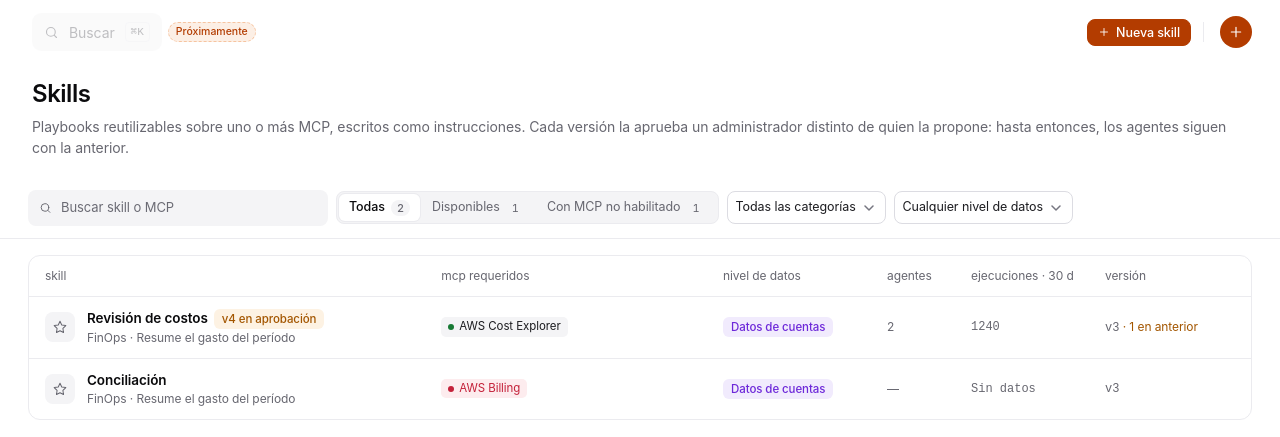
Test: SkillsPage › lists the skills with their servers, level, agents, runs and version
Expected: the button "Revisión de costos" shows "v4 en aprobación", 29,296 -> 1251,358
Expected: the button "Revisión de costos" shows "AWS Cost Explorer", 29,296 -> 1251,358
Click the button "Con MCP no habilitado 1" at x=626, y=208, box 537,194 -> 716,221
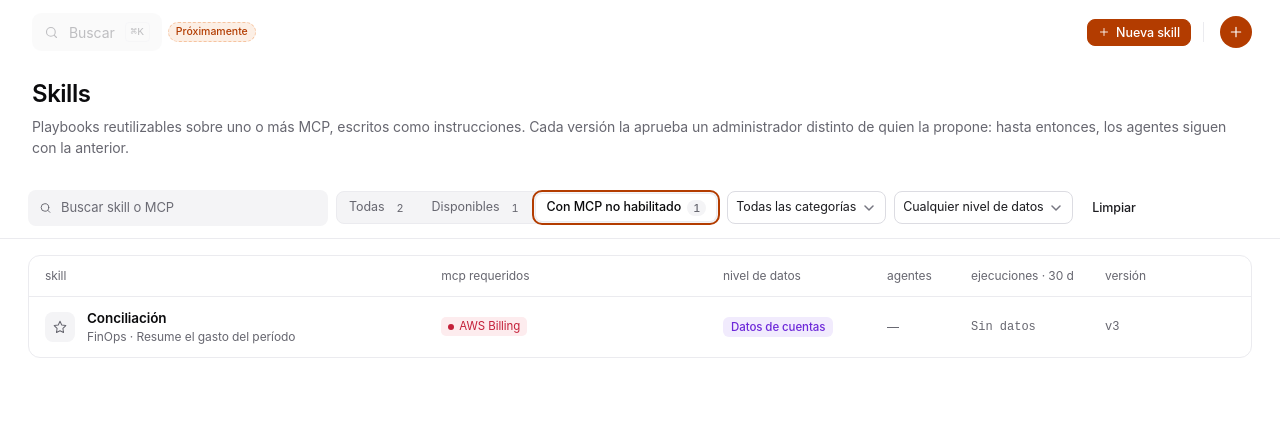
Result: the button "Revisión de costos" is gone
Click the button "Limpiar" at x=1114, y=208, box 1081,194 -> 1147,221
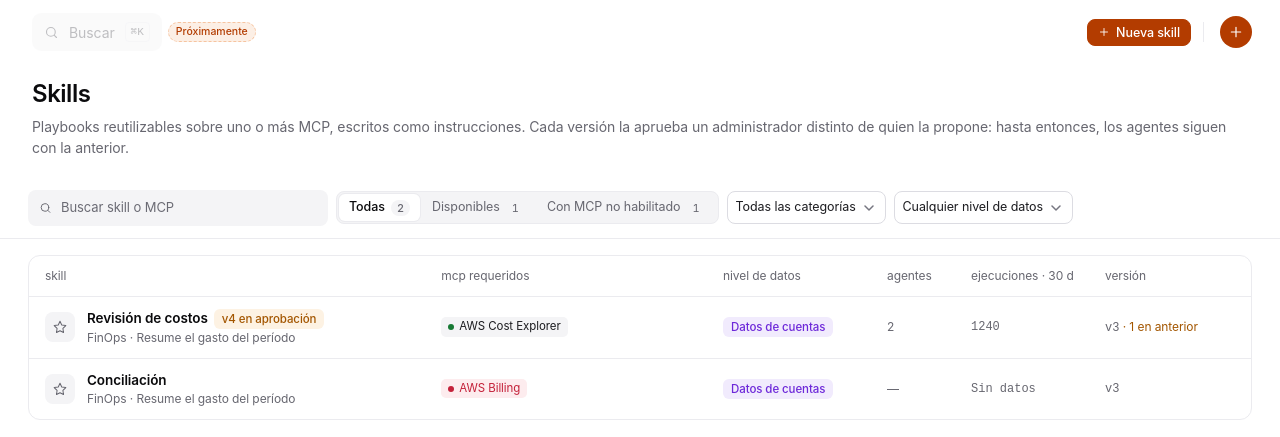
Result: the button "Revisión de costos" is shown at 29,296 -> 1251,358
